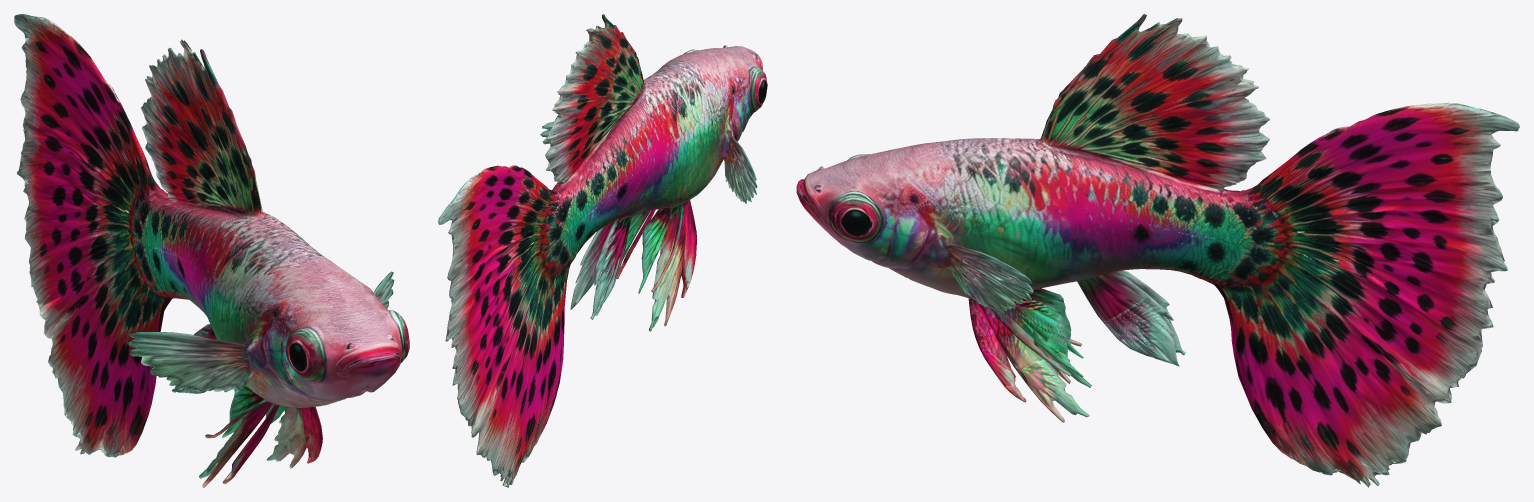
Rendered from guppy-3.glb.
3 views of the same model, side by side, from view 1: azimuth 30°, elevation 25°; view 2: azimuth 150°, elevation 25°; view 3: azimuth 270°, elevation 25° (orthographic). The views are drawn at different scales.
Visible parts, largest first — view 1: Body; view 2: Body; view 3: Body.
Part boxes in pixels (<box>): Body: <box>14,14,409,487</box>; Body: <box>438,14,767,487</box>; Body: <box>796,14,1519,487</box>.
Bounding box in the file's own units: 0.2339 × 0.4107 × 0.5694.
1 material, 1 textured.
